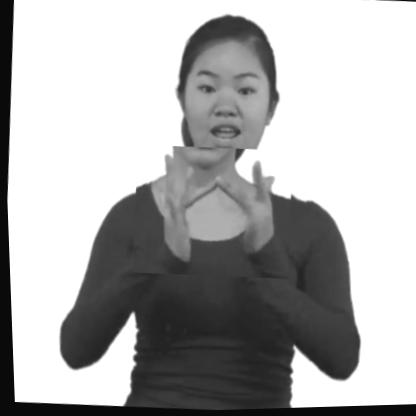Internet: (128, 142, 295, 285)
